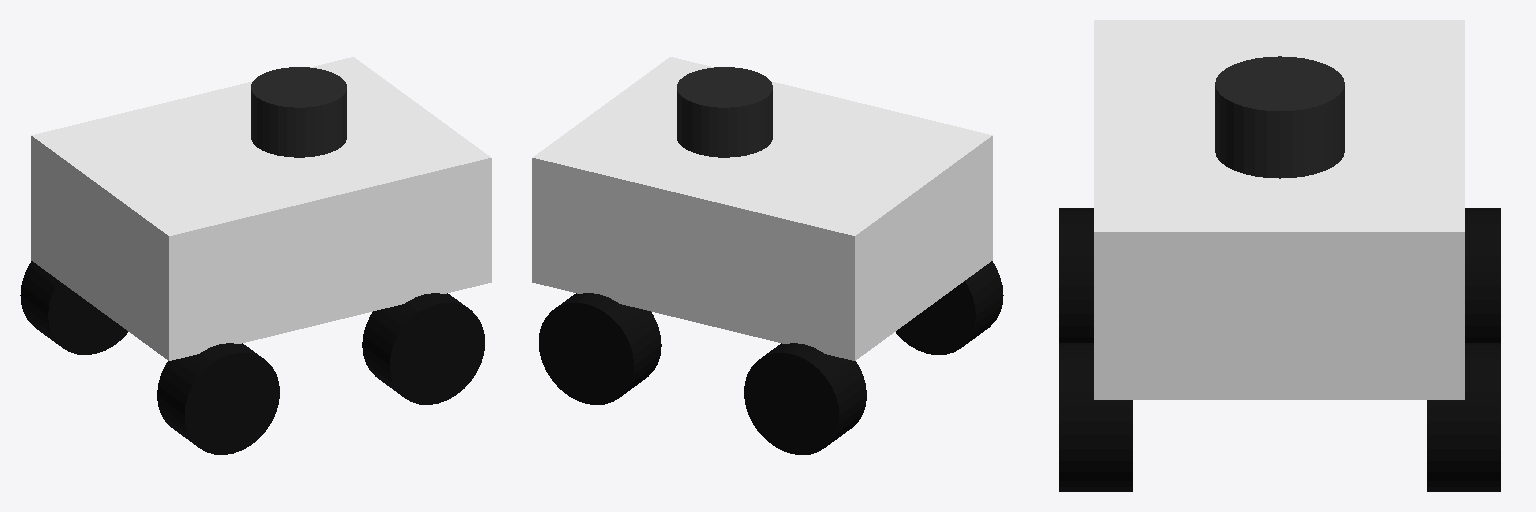
robot.urdf — wheeltec_display:
<?xml version="1.0" ?>
<!-- Display URDF for the Wheeltec mini-mec robot.
     Single link: base_footprint.  ALL geometry lives directly on this link.
     RViz needs ONLY odom_combined→base_footprint from /tf (EKF output).
     No dependency on base_footprint→base_link or any other /tf_static frame.

     Offsets verified from real-robot /tf_static diagnostic:
       base_link → laser_link   xyz=(0.0316, 0.0001, 0.0950) rel. to base_link
     base_link height above base_footprint derived from wheel geometry:
       wheel_radius=0.04m, wheel_joint_z=-0.0363 rel. to base_link
       → base_link = 0.04 + 0.0363 = 0.0763 m above base_footprint

     Body centre  = 0.0763 + 0.05  = 0.1263 m above base_footprint
     Body top     = 0.1263 + 0.05  = 0.1763 m above base_footprint
     Wheel centre = 0.0763 - 0.0363 = 0.04 m  above base_footprint (= wheel radius ✓)
     Laser centre = body_top + 0.02 = 0.1963 m (sits on top of body, not inside it) -->
<robot name="wheeltec_display">

    <link name="base_footprint">

        <!-- Body — white so it is distinct from the grey TF-error colour -->
        <visual>
            <origin xyz="0 0 0.1263" rpy="0 0 0"/>
            <geometry>
                <box size="0.27 0.20 0.10"/>
            </geometry>
            <material name="robot_body">
                <color rgba="1.0 1.0 1.0 1"/>
            </material>
        </visual>

        <!-- Laser lidar cylinder — sits on top of the body box.
             body_top = 0.0763 + 0.05 + 0.05 = 0.1763 m
             laser_centre = body_top + half_cylinder_length = 0.1763 + 0.02 = 0.1963 m -->
        <visual>
            <origin xyz="0.0316 0.0001 0.1963" rpy="0 0 0"/>
            <geometry>
                <cylinder radius="0.035" length="0.04"/>
            </geometry>
            <material name="lidar">
                <color rgba="0.2 0.2 0.2 1"/>
            </material>
        </visual>

        <!-- Left-front wheel -->
        <visual>
            <origin xyz="0.0789 0.0991 0.04" rpy="1.5708 0 0"/>
            <geometry><cylinder radius="0.04" length="0.04"/></geometry>
            <material name="wheel"><color rgba="0.1 0.1 0.1 1"/></material>
        </visual>

        <!-- Left-back wheel -->
        <visual>
            <origin xyz="-0.0930 0.0991 0.04" rpy="1.5708 0 0"/>
            <geometry><cylinder radius="0.04" length="0.04"/></geometry>
            <material name="wheel"><color rgba="0.1 0.1 0.1 1"/></material>
        </visual>

        <!-- Right-back wheel -->
        <visual>
            <origin xyz="-0.0930 -0.0989 0.04" rpy="1.5708 0 0"/>
            <geometry><cylinder radius="0.04" length="0.04"/></geometry>
            <material name="wheel"><color rgba="0.1 0.1 0.1 1"/></material>
        </visual>

        <!-- Right-front wheel -->
        <visual>
            <origin xyz="0.0789 -0.0989 0.04" rpy="1.5708 0 0"/>
            <geometry><cylinder radius="0.04" length="0.04"/></geometry>
            <material name="wheel"><color rgba="0.1 0.1 0.1 1"/></material>
        </visual>

    </link>

</robot>

--- Facts derived from the render (not from the file) ---
The picture shows the robot from 3 angles, left to right: view 1: azimuth 30°, elevation 25°; view 2: azimuth 150°, elevation 25°; view 3: azimuth 270°, elevation 25°; orthographic projection.
Robot: wheeltec_display — 1 links, 0 joints (none); root link base_footprint; default pose: every joint at zero.
Visible links, largest first — view 1: base_footprint; view 2: base_footprint; view 3: base_footprint.
Boxes of the visible links, box(x1,y1,x2,y2) form: base_footprint: box(20, 57, 491, 454); base_footprint: box(532, 57, 1003, 454); base_footprint: box(1059, 20, 1500, 491).
Size in the robot's own frame: 0.27 by 0.238 by 0.2163 metres.
Geometry: primitives only (box / cylinder / sphere), no mesh files.